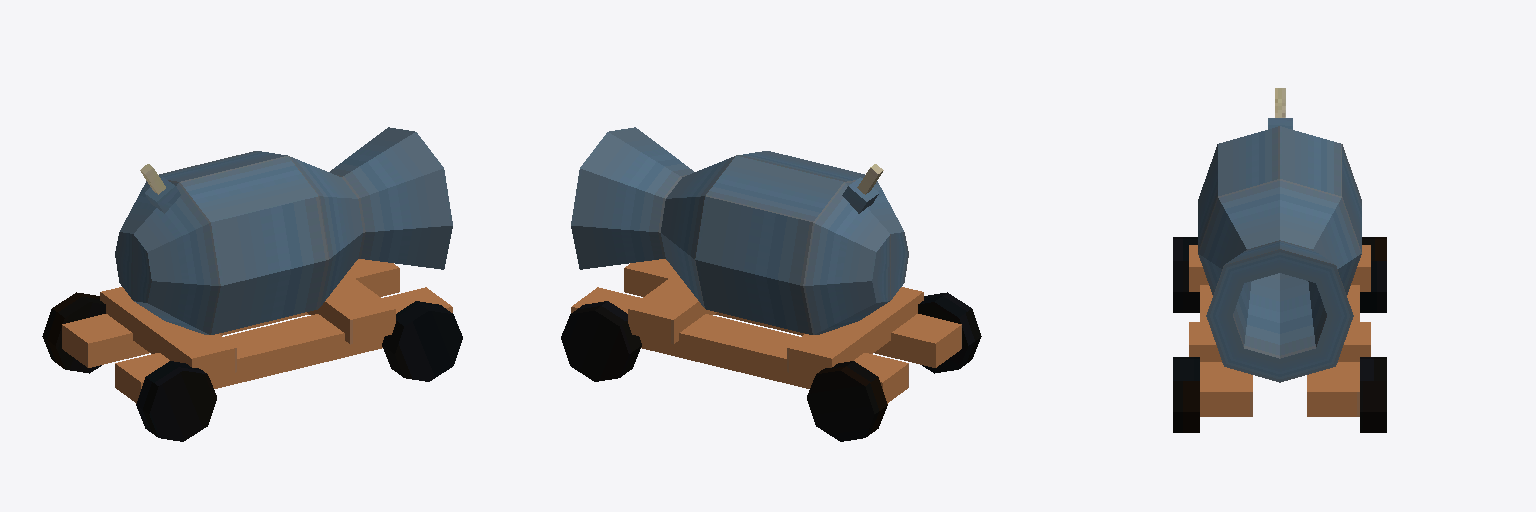
3 renders of one model, left to right at view 1: azimuth 30°, elevation 25°; view 2: azimuth 150°, elevation 25°; view 3: azimuth 270°, elevation 25°, orthographic.
Visible parts, largest first — view 1: CANNON_Cube.008; view 2: CANNON_Cube.008; view 3: CANNON_Cube.008.
Part boxes in pixels (x1,y1,x2,y2): CANNON_Cube.008: (42,127,462,441); CANNON_Cube.008: (561,127,981,441); CANNON_Cube.008: (1173,88,1386,432).
Size of the model in its own units: 1.72 by 1.2 by 0.9953.
1 materials, 1 textured.